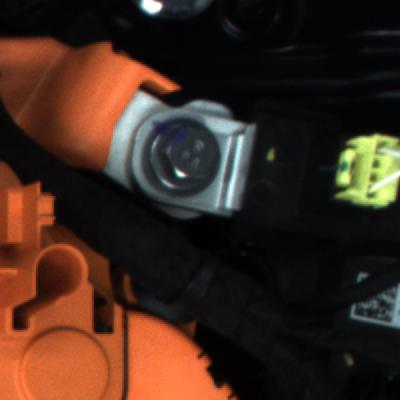nut_b: (131, 111, 228, 203)
